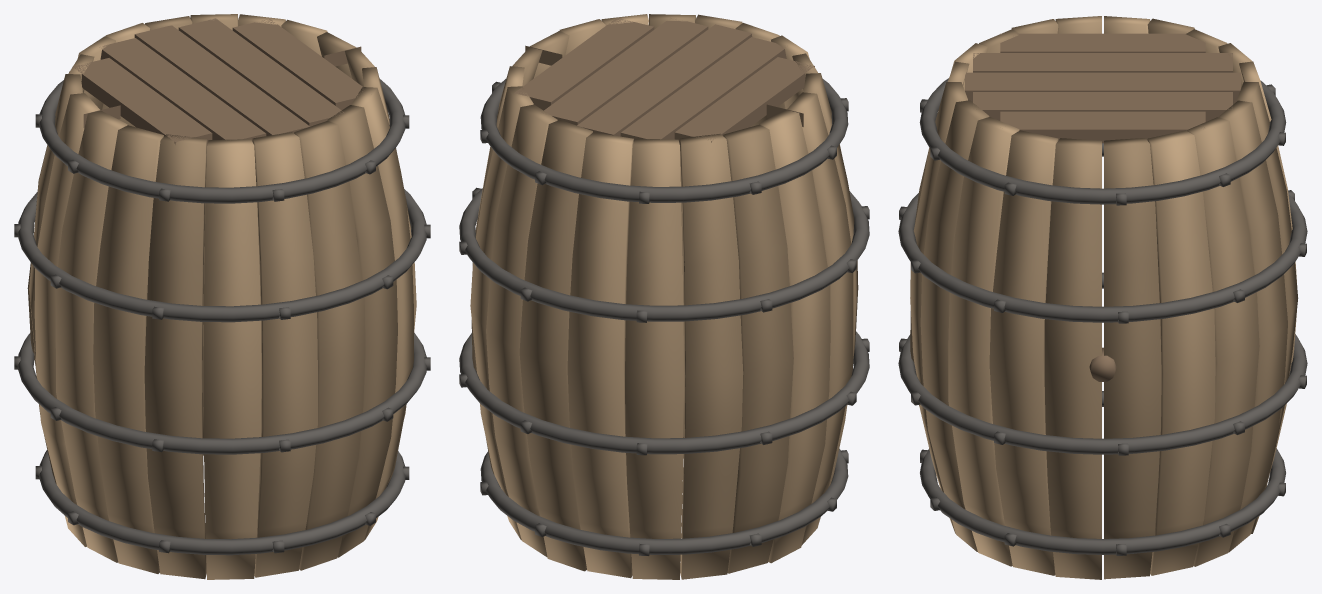
Rendered from barrel.glb.
3 renders of one model, left to right at view 1: azimuth 30°, elevation 25°; view 2: azimuth 150°, elevation 25°; view 3: azimuth 270°, elevation 25°, orthographic.
Visible parts, largest first — view 1: barrel_hoops, barrel_lid, stave13, stave12, stave14, stave11, stave15, stave10, stave16, stave9, stave17, stave8 (+7 smaller); view 2: barrel_hoops, barrel_lid, stave6, stave7, stave5, stave8, stave4, stave9, stave3, stave10, stave2, stave11 (+6 smaller); view 3: barrel_hoops, barrel_lid, stave19, stave0, stave1, stave18, stave17, stave2, stave3, stave16, stave15, stave4 (+5 smaller).
Boxes of the visible parts, box(x1,y1,x2,y2) form: barrel_hoops: box(14, 71, 430, 555); barrel_lid: box(72, 18, 362, 145); stave13: box(203, 139, 261, 579); stave12: box(144, 134, 206, 579); stave14: box(252, 132, 317, 577); stave11: box(93, 125, 163, 573); stave15: box(294, 121, 365, 570); stave10: box(55, 110, 127, 562); stave16: box(327, 105, 397, 557); stave9: box(34, 93, 99, 546); stave17: box(351, 87, 413, 540); stave8: box(29, 74, 82, 484); barrel_hoops: box(459, 78, 869, 555); barrel_lid: box(514, 18, 814, 146); stave6: box(625, 138, 683, 579); stave7: box(680, 133, 743, 579); stave5: box(567, 132, 633, 578); stave8: box(723, 124, 793, 573); stave4: box(519, 120, 592, 571); stave9: box(759, 109, 830, 563); stave3: box(486, 104, 557, 557); stave10: box(787, 92, 853, 545); stave2: box(470, 86, 533, 540); stave11: box(803, 73, 858, 518); barrel_hoops: box(898, 78, 1307, 555); barrel_lid: box(965, 33, 1240, 143); stave19: box(1044, 138, 1101, 579); stave0: box(1104, 138, 1161, 579); stave1: box(1147, 130, 1215, 575); stave18: box(989, 130, 1058, 575); stave17: box(948, 117, 1019, 566); stave2: box(1187, 117, 1259, 566); stave3: box(1219, 100, 1287, 552); stave16: box(920, 100, 989, 551); stave15: box(910, 82, 967, 533); stave4: box(1237, 82, 1298, 533).
Bounding box in the file's own units: 0.8246 × 0.95 × 0.8147.
